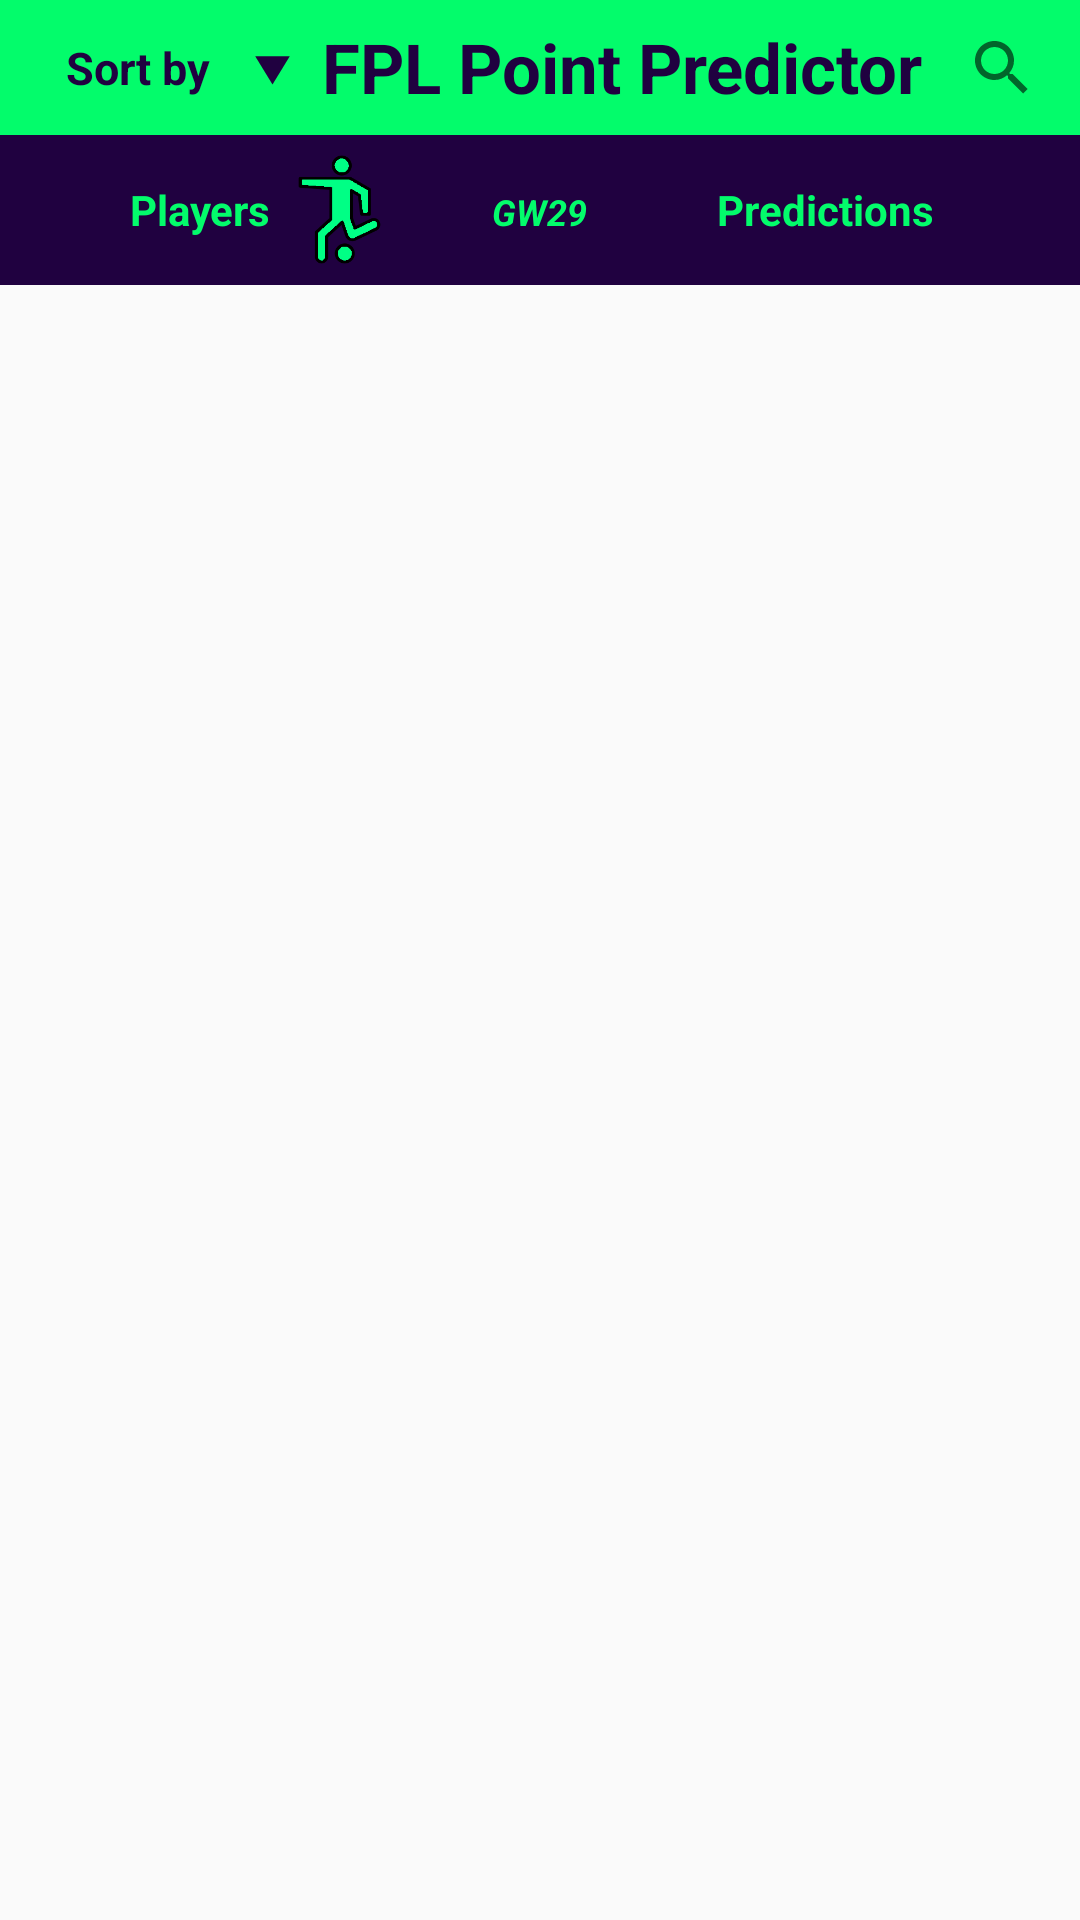

Icon bounding boxes for this 1080px x 1920px phone screenshot, format (x1, y1, x2, y2):
Football Player icon: (299, 156, 380, 263)
